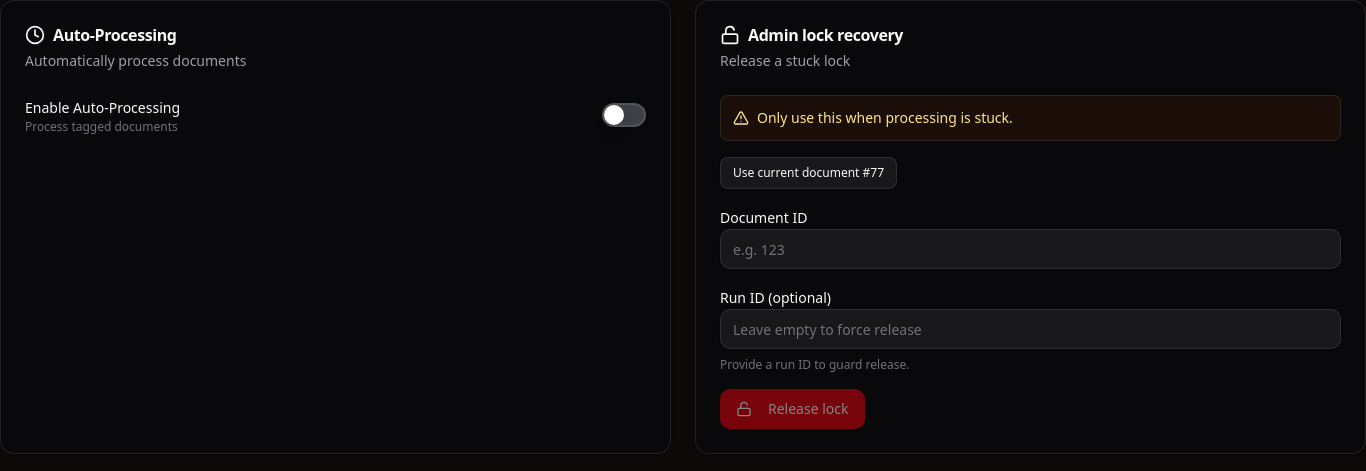
Test case: ProcessingTab › can prefill the current processing document id
Click the button "Use current document #77" at (808, 173), box [720, 157, 897, 189]
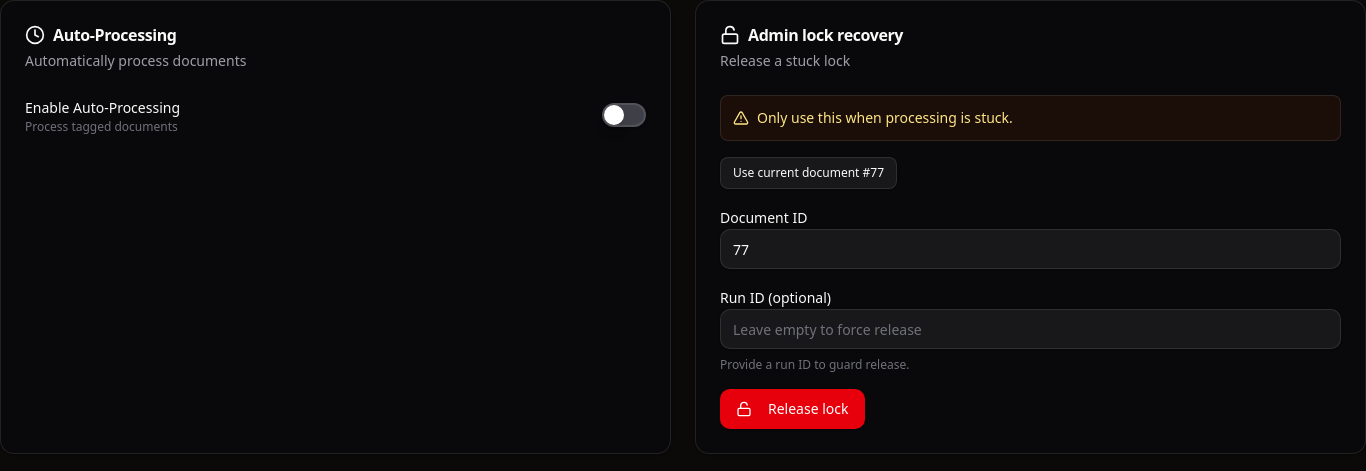
Expected: the number field labelled "Document ID" holds "77", [720, 229, 1341, 269]
